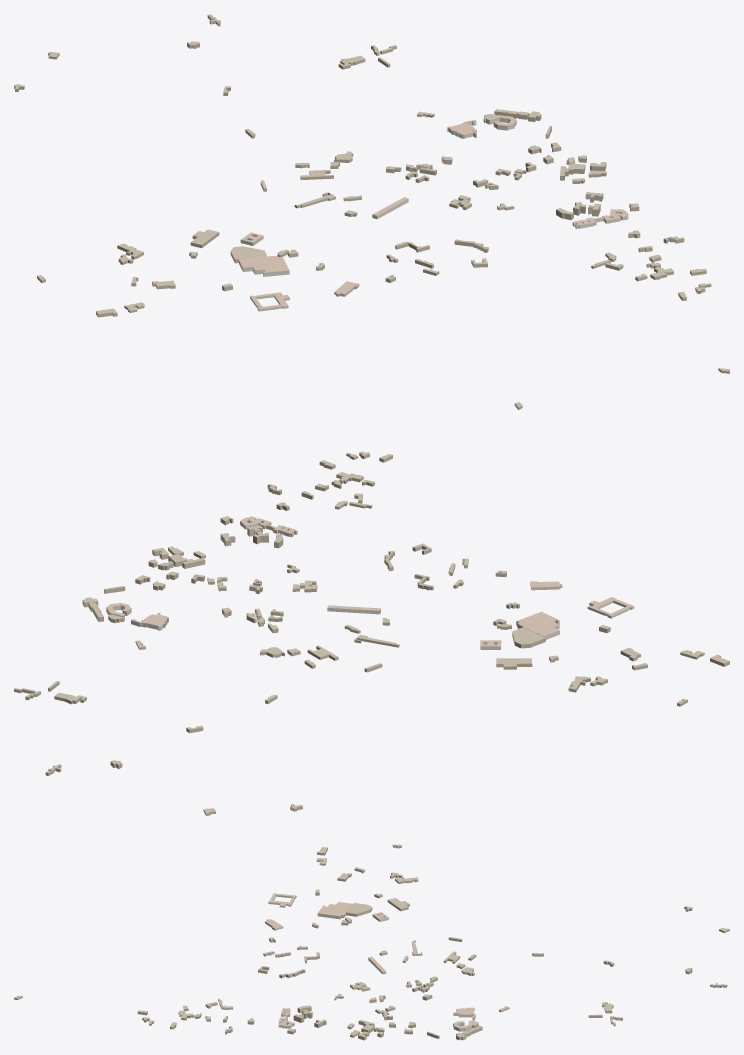
The picture shows the model from 3 angles, top to bottom: view 1: azimuth 30°, elevation 25°; view 2: azimuth 150°, elevation 25°; view 3: azimuth 270°, elevation 25°; orthographic projection. The views are drawn at different scales.
Size of the model in its own units: 1537 by 20.75 by 2411.
